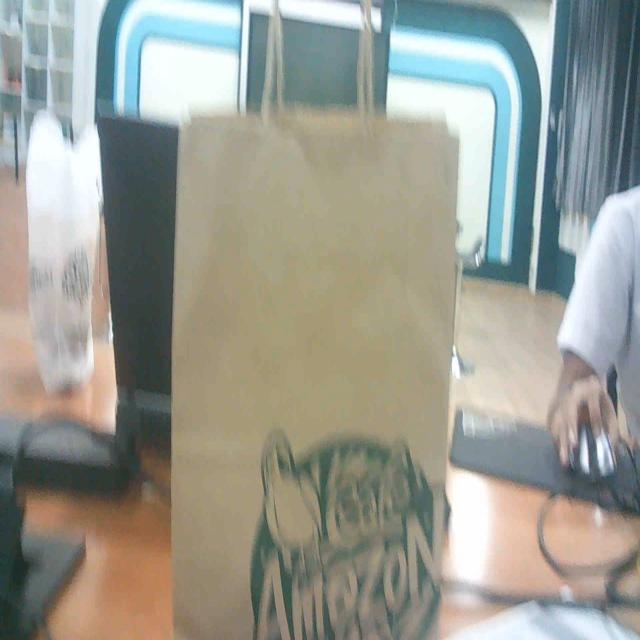bag: (168, 75, 468, 640)
